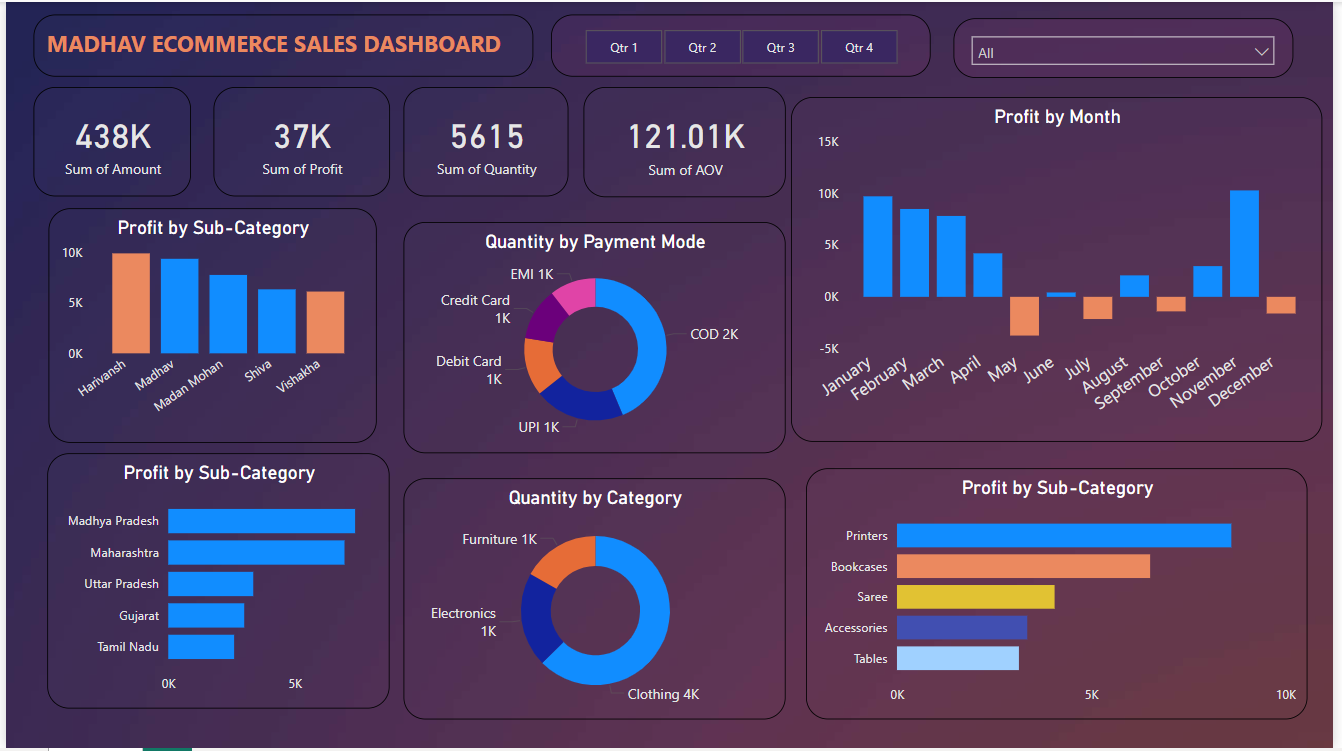

Layout of this report page (visuals, bound fields, positions):
{"tool":"powerbi","page":{"name":"Page 1","canvas":[1280,720],"ordinal":0},"visuals":[{"type":"textbox","box":[26,12.3,482.6,60.3],"z":0},{"type":"columnChart","title":"Profit by Month","fields":{"Category":["Orders.Order Date.Variation.Date Hierarchy.Month"],"Y":["Details.Profit"]},"box":[758.2,91.9,512.8,333.2],"z":1000},{"type":"clusteredBarChart","title":"Profit by Sub-Category","fields":{"Category":["Details.Sub-Category"],"Y":["Details.Profit"]},"box":[771.9,449.7,484,242.7],"z":2000},{"type":"donutChart","title":"Quantity by Category","fields":{"Category":["Details.Category"],"Y":["Details.Quantity"]},"box":[383.9,459.3,368.8,233.1],"z":3000},{"type":"donutChart","title":"Quantity by Payment Mode","fields":{"Y":["Details.Quantity"],"Category":["Details.PaymentMode"]},"box":[383.9,212.5,368.8,223.5],"z":4000},{"type":"card","fields":{"Values":["Details.Amount"]},"box":[26,82.3,152.2,105.6],"z":5000},{"type":"card","fields":{"Values":["Details.Profit"]},"box":[200.2,82.3,170,105.6],"z":6000},{"type":"card","fields":{"Values":["Details.Quantity"]},"box":[383.9,82.3,159,105.6],"z":7000},{"type":"card","fields":{"Values":["Details.AOV"]},"box":[557.2,82,195.4,106.1],"z":8000},{"type":"clusteredBarChart","title":"Profit by Sub-Category","fields":{"Y":["Details.Profit"],"Category":["Orders.State"]},"box":[39.8,436,330.4,246.8],"z":9000},{"type":"columnChart","title":"Profit by Sub-Category","fields":{"Category":["Orders.CustomerName"],"Y":["Details.Amount"]},"box":[41.1,198.8,316.7,226.2],"z":10000},{"type":"slicer","fields":{"Values":["Orders.Order Date.Variation.Date Hierarchy.Quarter"]},"box":[526.5,12.3,366.1,60.3],"z":11000},{"type":"slicer","fields":{"Values":["Orders.State"]},"box":[914.5,15.1,327.7,57.6],"z":12000}]}

Visuals, with their boxes in screenshot pixels (x1, y1, x2, y2), scaled from the page's 1280x720 canvas onto the 1342x751 screenshot:
textbox: locate(27, 13, 533, 76)
"Profit by Month" columnChart: locate(795, 96, 1333, 443)
"Profit by Sub-Category" clusteredBarChart: locate(809, 469, 1317, 722)
"Quantity by Category" donutChart: locate(402, 479, 789, 722)
"Quantity by Payment Mode" donutChart: locate(402, 222, 789, 455)
card - Details.Amount: locate(27, 86, 187, 196)
card - Details.Profit: locate(210, 86, 388, 196)
card - Details.Quantity: locate(402, 86, 569, 196)
card - Details.AOV: locate(584, 86, 789, 196)
"Profit by Sub-Category" clusteredBarChart: locate(42, 455, 388, 712)
"Profit by Sub-Category" columnChart: locate(43, 207, 375, 443)
slicer - Orders.Order Date.Variation.Date Hierarchy.Quarter: locate(552, 13, 936, 76)
slicer - Orders.State: locate(959, 16, 1302, 76)
